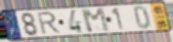0: (133, 5, 152, 31)
1: (110, 7, 125, 32)
4: (67, 9, 85, 34)
8: (20, 11, 39, 37)
M: (80, 7, 112, 35)
R: (36, 10, 62, 36)
